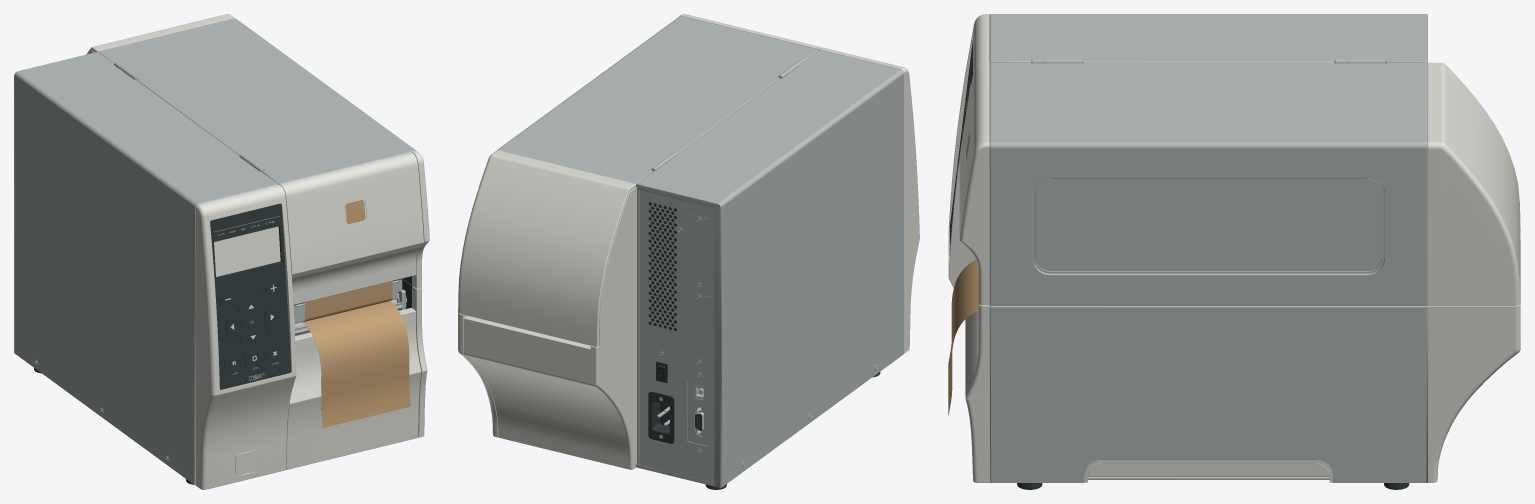
The model's file is computer_printer_barcode_a01.glb.
3 views of the same model, side by side, from view 1: azimuth 30°, elevation 25°; view 2: azimuth 150°, elevation 25°; view 3: azimuth 270°, elevation 25° (orthographic). The views are drawn at different scales.
Bounding box in the file's own units: 0.271 × 0.3395 × 0.4957.
